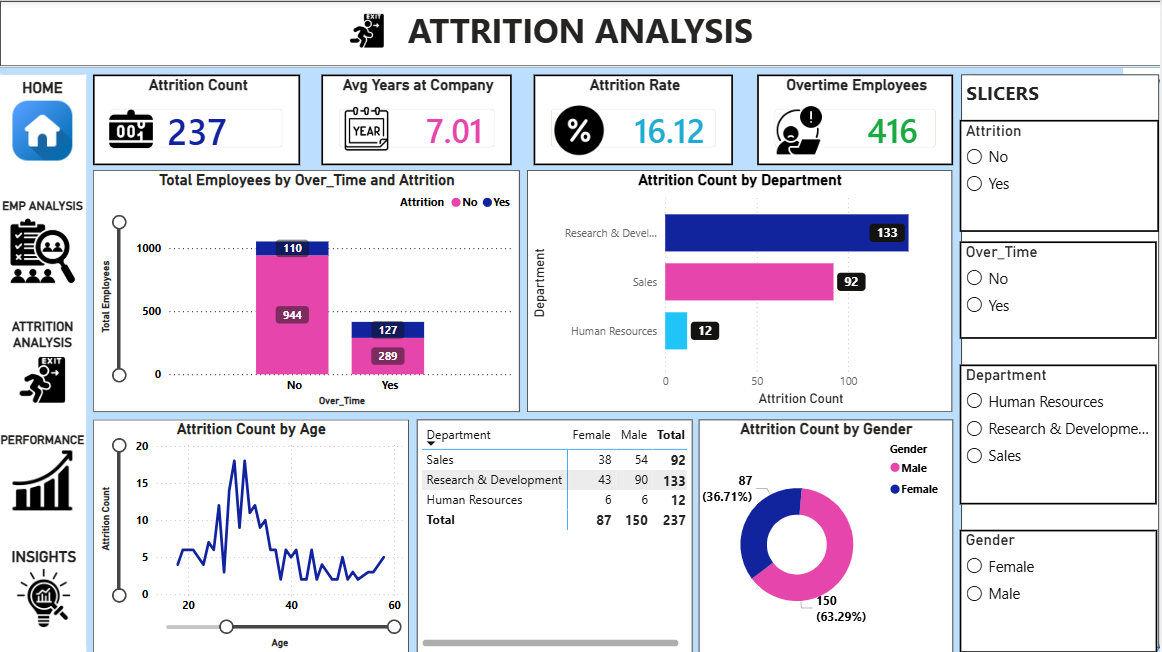

The dashboard page shown, as its layout file describes it:
{"tool":"powerbi","page":{"name":"Attrition_Analysis","canvas":[1280,720],"ordinal":2},"visuals":[{"type":"shape","box":[0,0,1280,56],"z":1000},{"type":"textbox","box":[0,0,1282,74],"z":2000},{"type":"image","box":[378.6,12.5,53.6,42.9],"z":2500},{"type":"shape","box":[1060,82,220,638],"z":3000},{"type":"textbox","box":[1060,82,218,632],"z":4000},{"type":"cardVisual","title":"Attrition Count","fields":{"Data":["Cleaned_HR_Data.Attrition Count"]},"box":[103.6,82.2,228.6,100],"z":5000},{"type":"cardVisual","title":"Overtime Employees","fields":{"Data":["Cleaned_HR_Data.Overtime Employees"]},"box":[836,82,216,100],"z":6000},{"type":"cardVisual","title":"Attrition Rate","fields":{"Data":["Cleaned_HR_Data.Attrition Rate"]},"box":[590,82,220,100],"z":7000},{"type":"cardVisual","title":"Avg Years at Company","fields":{"Data":["Cleaned_HR_Data.Avg Years at Company"]},"box":[356,82,210,100],"z":8000},{"type":"clusteredBarChart","fields":{"Category":["Cleaned_HR_Data.Department"],"Y":["Cleaned_HR_Data.Attrition Count"]},"box":[582.5,188.2,468.2,266.6],"z":9000},{"type":"donutChart","fields":{"Category":["Cleaned_HR_Data.Gender"],"Y":["Cleaned_HR_Data.Attrition Count"]},"box":[772,462,280,258],"z":10000},{"type":"lineChart","fields":{"Category":["Cleaned_HR_Data.Age"],"Y":["Cleaned_HR_Data.Attrition Count"]},"box":[104,462,348,258],"z":11000},{"type":"columnChart","fields":{"Category":["Cleaned_HR_Data.Over_Time"],"Series":["Cleaned_HR_Data.Attrition"],"Y":["Cleaned_HR_Data.Total Employees"]},"box":[103.1,188.2,470.5,266.6],"z":12000},{"type":"listSlicer","fields":{"Values":["Cleaned_HR_Data.Attrition"]},"box":[1059.7,132.2,219.6,123.2],"z":13000},{"type":"listSlicer","fields":{"Values":["Cleaned_HR_Data.Gender"]},"box":[1059,584,217.9,135.7],"z":14000},{"type":"listSlicer","fields":{"Values":["Cleaned_HR_Data.Over_Time"]},"box":[1059.7,266.6,217.3,107.5],"z":15000},{"type":"listSlicer","fields":{"Values":["Cleaned_HR_Data.Department"]},"box":[1059.7,401,217.3,154.6],"z":16000},{"type":"shape","box":[0,81.5,96.3,633.3],"z":17000},{"type":"textbox","box":[0,81.5,96.3,639],"z":18000},{"type":"pivotTable","fields":{"Rows":["Cleaned_HR_Data.Department"],"Columns":["Cleaned_HR_Data.Gender"],"Values":["Cleaned_HR_Data.Attrition Count"]},"box":[460.8,462.6,304,257.2],"z":19000},{"type":"image","box":[103.6,117.9,83.9,48.2],"z":20000},{"type":"image","box":[378.6,117.9,53.6,48.2],"z":21000},{"type":"image","box":[610.8,114.3,57.1,58.9],"z":22000},{"type":"image","box":[848.3,114.3,64.3,58.9],"z":23000},{"type":"image","title":"HOME","box":[0,87.8,95.9,89.8],"z":24000},{"type":"image","title":"EMP ANALYSIS","box":[0,220.4,95.9,93.9],"z":25000},{"type":"image","title":"ATTRITION ANALYSIS","box":[0,351,95.9,95.9],"z":26000},{"type":"image","title":"PERFORMANCE","box":[0,477.6,95.9,85.7],"z":27000},{"type":"image","title":"INSIGHTS","box":[4.1,604.1,91.8,87.8],"z":28000}]}

Visuals, with their boxes in screenshot pixels (x1, y1, x2, y2), scaled from the page's 1280x720 canvas onto the 1162x652 screenshot:
shape: [0,0,1161,51]
textbox: [0,0,1161,67]
image: [344,11,392,50]
shape: [962,74,1161,651]
textbox: [962,74,1160,647]
"Attrition Count" cardVisual: [94,74,302,165]
"Overtime Employees" cardVisual: [759,74,955,165]
"Attrition Rate" cardVisual: [536,74,735,165]
"Avg Years at Company" cardVisual: [323,74,514,165]
clusteredBarChart - Cleaned_HR_Data.Department x Cleaned_HR_Data.Attrition Count: [529,170,954,412]
donutChart - Cleaned_HR_Data.Gender x Cleaned_HR_Data.Attrition Count: [701,418,955,651]
lineChart - Cleaned_HR_Data.Age x Cleaned_HR_Data.Attrition Count: [94,418,410,651]
columnChart - Cleaned_HR_Data.Over_Time x Cleaned_HR_Data.Attrition: [94,170,521,412]
listSlicer - Cleaned_HR_Data.Attrition: [962,120,1161,231]
listSlicer - Cleaned_HR_Data.Gender: [961,529,1159,651]
listSlicer - Cleaned_HR_Data.Over_Time: [962,241,1159,339]
listSlicer - Cleaned_HR_Data.Department: [962,363,1159,503]
shape: [0,74,87,647]
textbox: [0,74,87,651]
pivotTable - Cleaned_HR_Data.Department x Cleaned_HR_Data.Gender: [418,419,694,651]
image: [94,107,170,150]
image: [344,107,392,150]
image: [554,104,606,157]
image: [770,104,828,157]
"HOME" image: [0,80,87,161]
"EMP ANALYSIS" image: [0,200,87,285]
"ATTRITION ANALYSIS" image: [0,318,87,405]
"PERFORMANCE" image: [0,432,87,510]
"INSIGHTS" image: [4,547,87,627]
